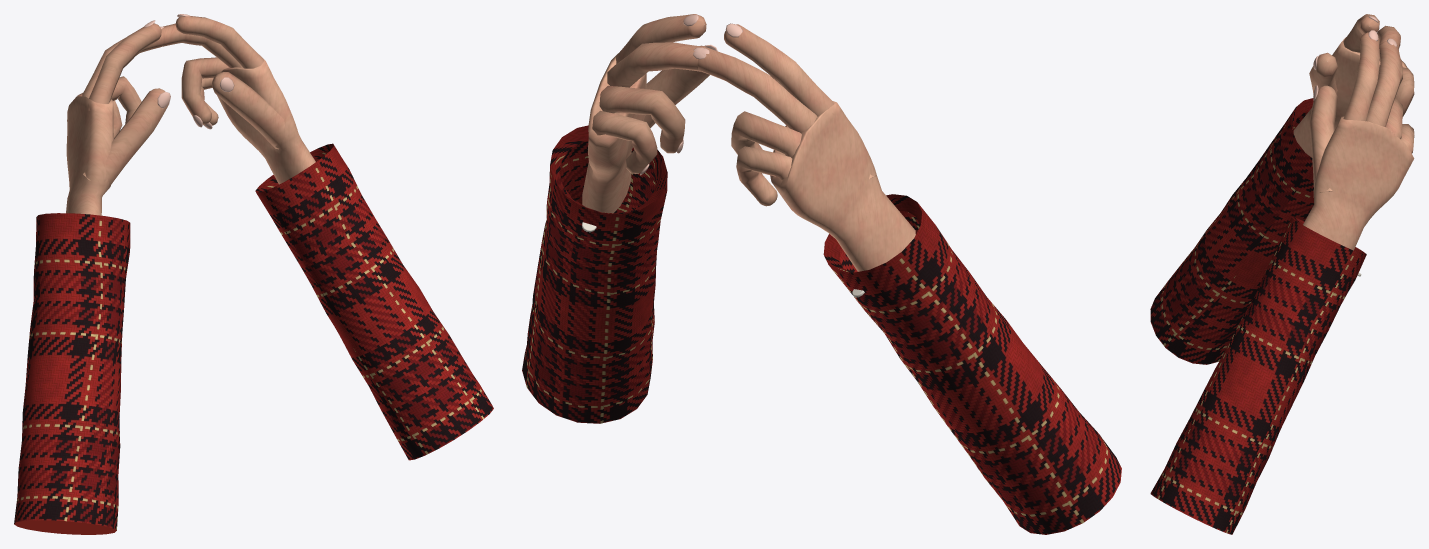
File: fp_hands.glb
3 renders of one model, left to right at view 1: azimuth 30°, elevation 25°; view 2: azimuth 150°, elevation 25°; view 3: azimuth 270°, elevation 25°, orthographic. The views are drawn at different scales.
Parts seen in each view (by area): view 1: HandL, HandR; view 2: HandL, HandR; view 3: HandR, HandL.
Part boxes in pixels (<box>): HandL: <box>14,20,170,534</box>; HandR: <box>161,14,493,460</box>; HandL: <box>693,23,1121,534</box>; HandR: <box>522,14,717,423</box>; HandR: <box>1150,30,1414,534</box>; HandL: <box>1150,14,1414,364</box>.
Size of the model in its own units: 0.4888 by 0.417 by 0.2379.
4 materials, 2 textured.
